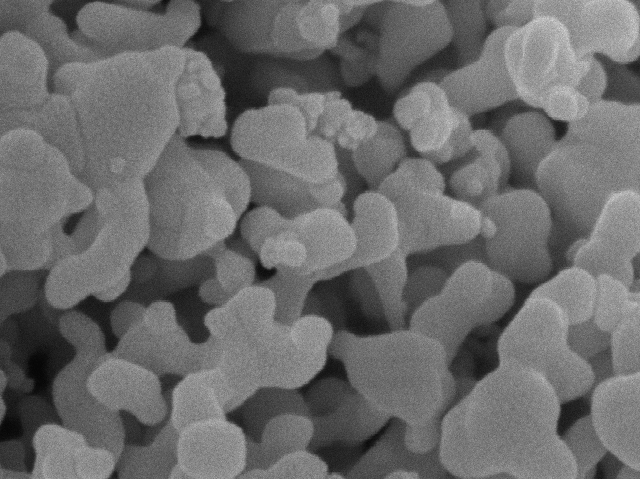nano: (106, 153, 131, 179)
